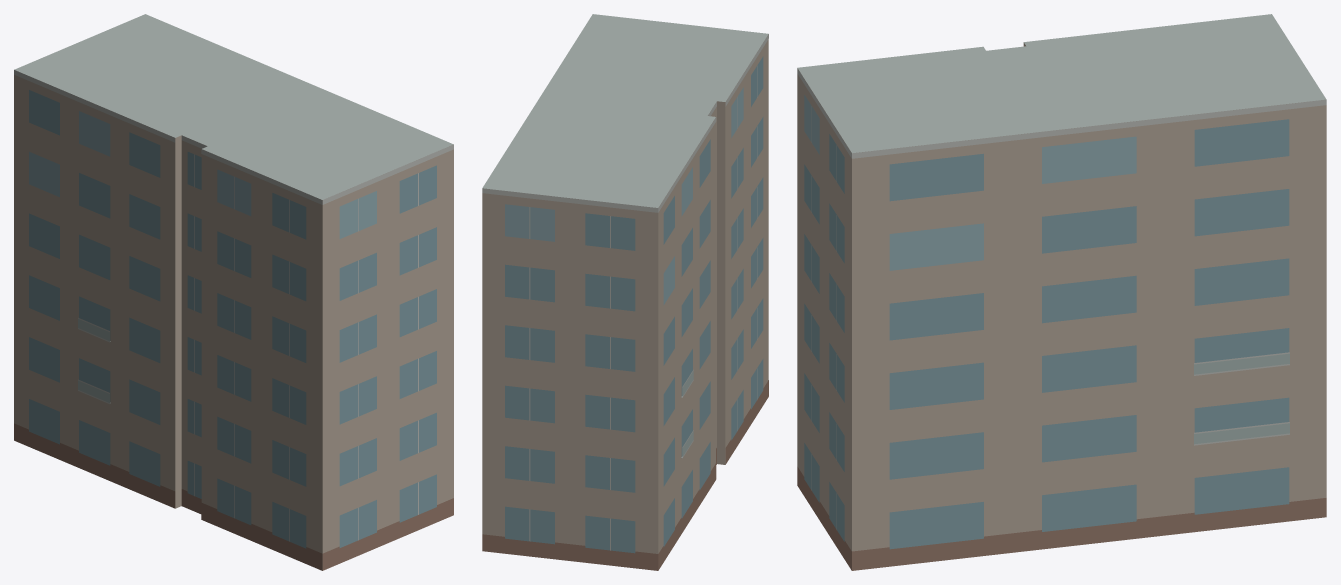
The model's file is survey-upis-32664718.glb.
3 renders of one model, left to right at view 1: azimuth 30°, elevation 25°; view 2: azimuth 150°, elevation 25°; view 3: azimuth 270°, elevation 25°, orthographic. The views are drawn at different scales.
Visible parts, largest first — view 1: survey-upis-32664718.tmp; view 2: survey-upis-32664718.tmp; view 3: survey-upis-32664718.tmp.
Part boxes in pixels (x1,y1,x2,y2): survey-upis-32664718.tmp: (14,14,453,570); survey-upis-32664718.tmp: (482,14,768,570); survey-upis-32664718.tmp: (797,14,1326,570).
Size of the model in its own units: 13.1 by 18.3 by 21.03.
